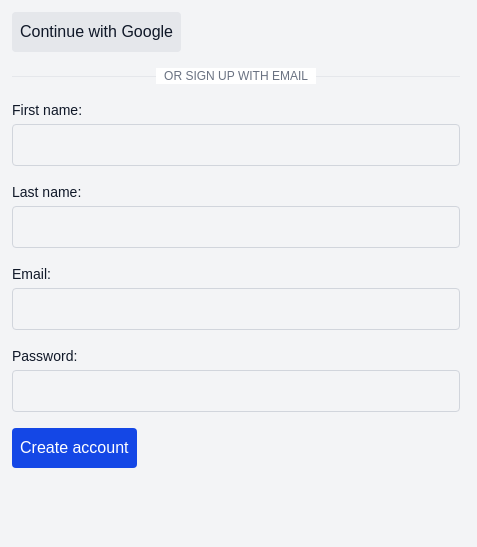
SignUpForm › Google sign-up › shows a formatted message when Google sign-up throws FirebaseError
Click the button "Continue with Google" at (96, 32), box [12,12,181,52]
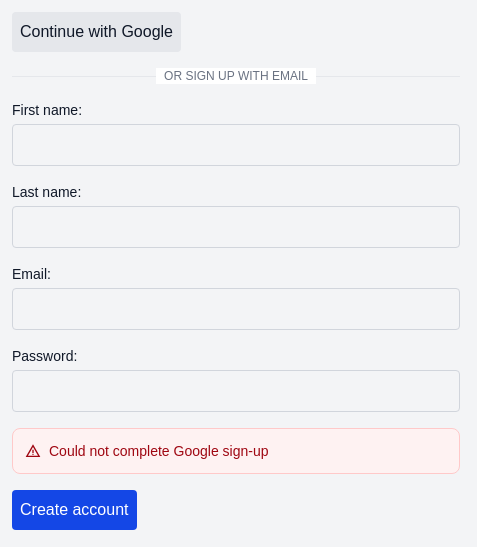
Expected: the text "Could not complete Google sign-up" is shown, [25,443,268,459]
